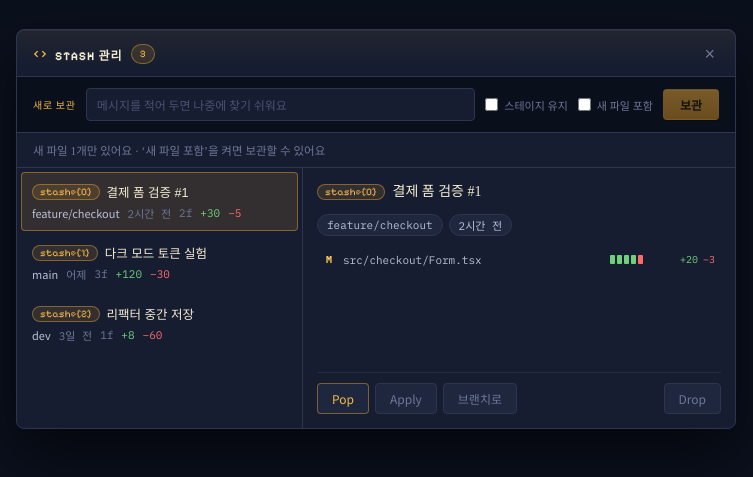
Scenario: StashPanel — push + keepIndex › untracked만 있을 때 → 안내 문구 · 기본 비활성, 새 파일 포함 켜면 활성
Expected: the text "stash@{1}" is shown, x1=32 y1=244 x2=98 y2=260
Expected: the text "새 파일 1개만 있어요 · ‘새 파일 포함’을 켜면 보관할 수 있어요" is shown, x1=33 y1=145 x2=325 y2=157
Step 1. Click the checkbox labelled "새 파일 포함" → [584, 104], box x1=578 y1=98 x2=591 y2=111
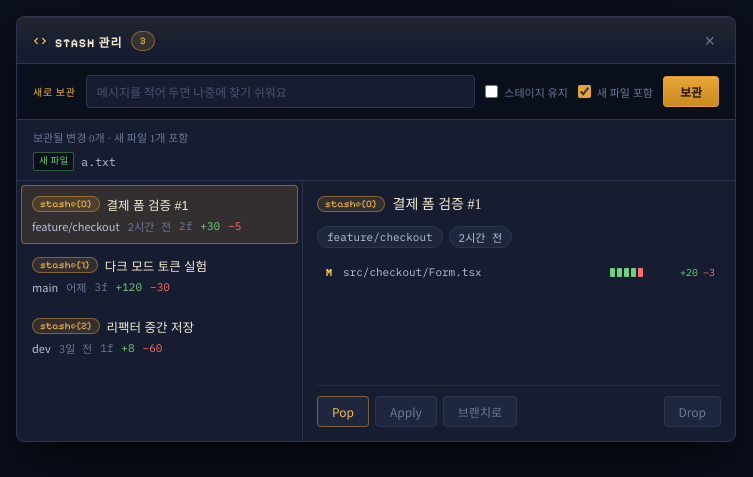
Now the button "보관" is enabled, box x1=663 y1=76 x2=719 y2=107
